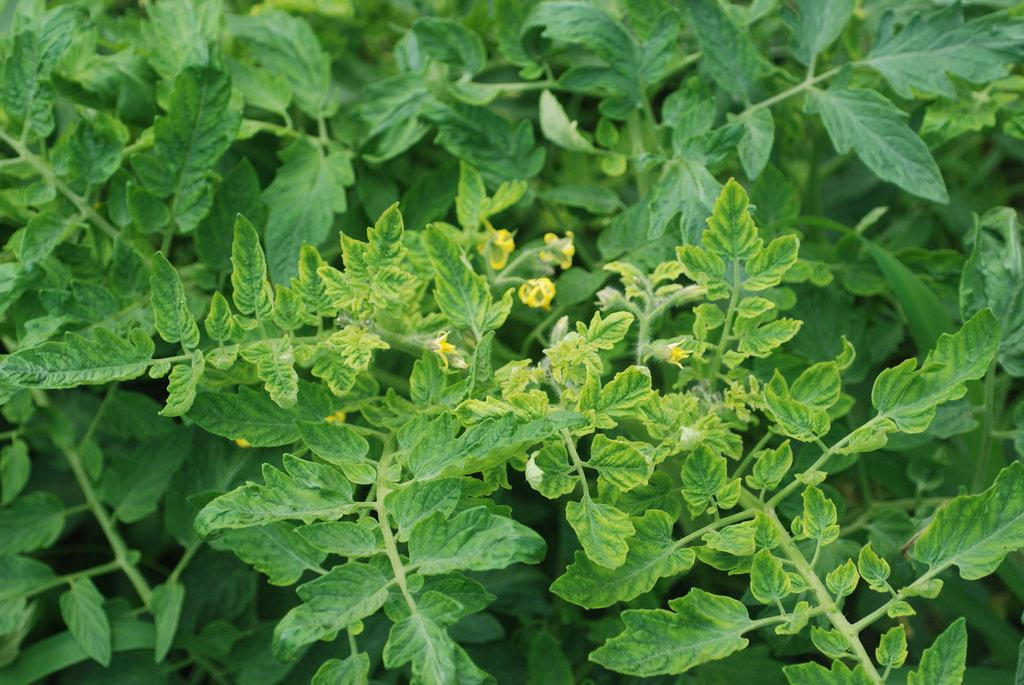Tomato leaf yellow virus: (878, 302, 1000, 438), (544, 502, 697, 609), (582, 593, 752, 679), (398, 401, 554, 494), (917, 462, 1023, 585), (0, 325, 154, 397), (272, 567, 387, 658), (402, 507, 544, 576), (423, 221, 492, 335), (691, 178, 767, 267), (313, 322, 383, 408), (672, 440, 744, 522), (225, 207, 275, 318), (563, 500, 635, 574), (580, 362, 649, 435), (731, 231, 801, 301), (289, 417, 375, 469), (586, 432, 656, 494), (362, 198, 413, 280), (762, 387, 828, 449), (155, 352, 212, 416), (526, 442, 579, 501), (258, 353, 307, 415), (736, 316, 803, 360), (853, 535, 899, 599), (745, 438, 796, 495), (403, 350, 449, 410), (746, 548, 787, 611), (802, 482, 842, 545), (579, 307, 638, 345), (872, 620, 909, 680), (820, 556, 860, 601)
